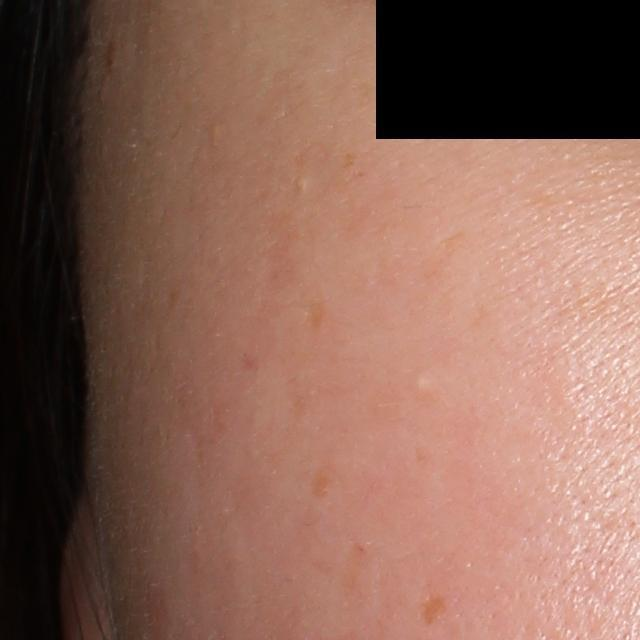comedo: (409, 371, 440, 400), (293, 173, 311, 191)
melasma: (312, 458, 342, 499), (420, 594, 450, 627), (342, 148, 360, 170)
